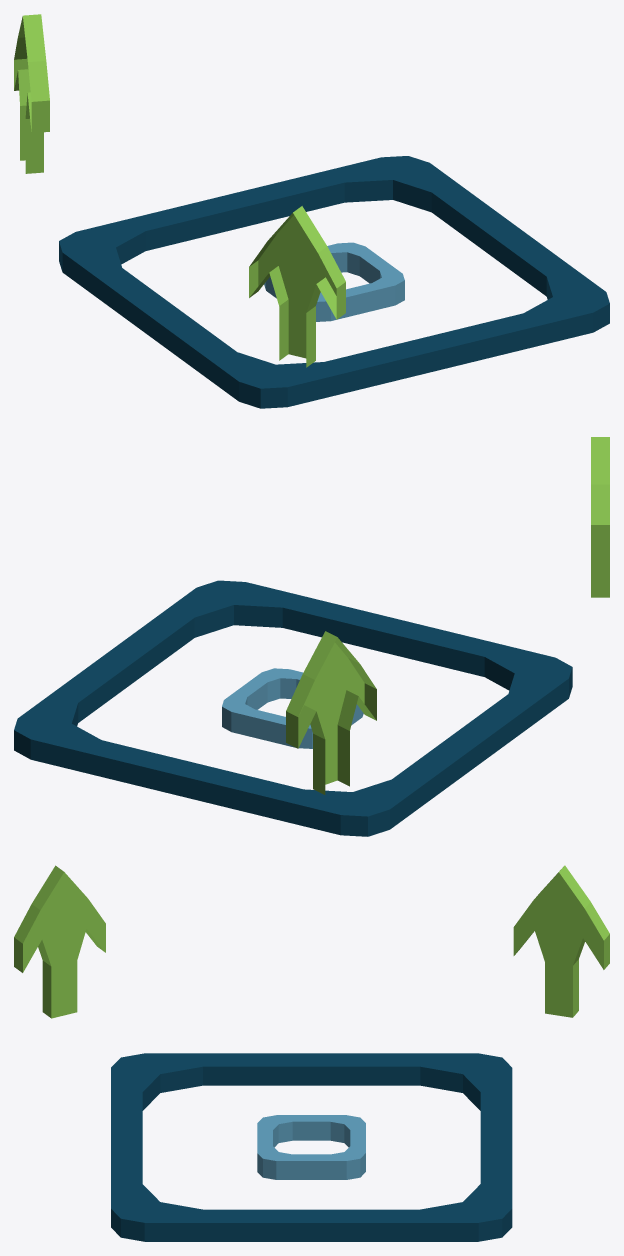
Rendered from JumpBoostNew.fbx.
3 views of the same model, one above another, from view 1: azimuth 30°, elevation 25°; view 2: azimuth 150°, elevation 25°; view 3: azimuth 270°, elevation 25° (orthographic). The views are drawn at different scales.
Visible parts, largest first — view 1: Cube, Cube.003, Cube.002, Cube.001; view 2: Cube, Cube.002, Cube.001, Cube.003; view 3: Cube, Cube.003, Cube.002, Cube.001.
Boxes of the visible parts, x1,y1,x2,y2 form: Cube: [59, 156, 609, 408]; Cube.003: [249, 206, 345, 367]; Cube.002: [14, 14, 49, 173]; Cube.001: [264, 242, 404, 321]; Cube: [14, 580, 572, 836]; Cube.002: [286, 631, 376, 794]; Cube.001: [222, 668, 363, 748]; Cube.003: [591, 437, 609, 597]; Cube: [111, 1053, 512, 1241]; Cube.003: [14, 865, 105, 1018]; Cube.002: [513, 865, 609, 1017]; Cube.001: [257, 1115, 365, 1179].
Size of the model in its own units: 208 by 115 by 297.
1 material, 1 textured.
